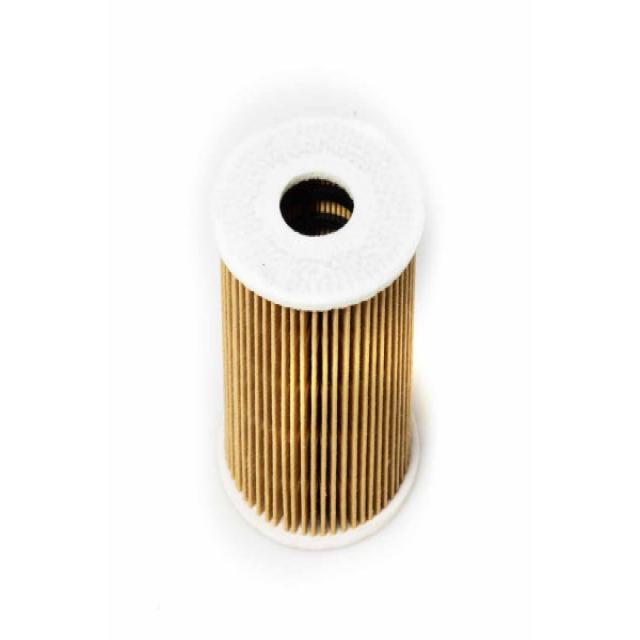oil_filter: (205, 115, 428, 559)
